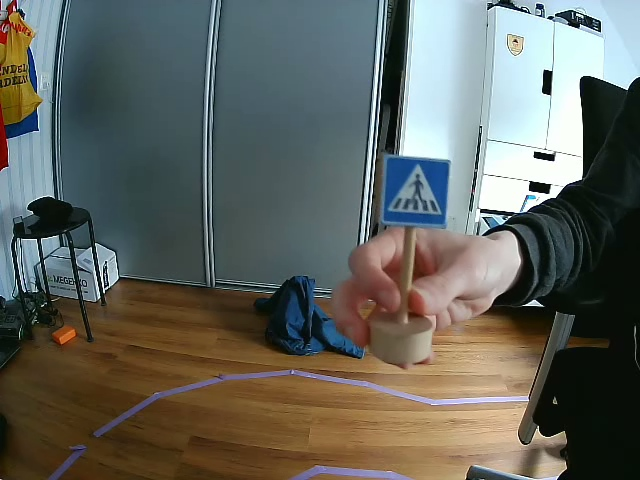zebrapad: (380, 158, 452, 224)
